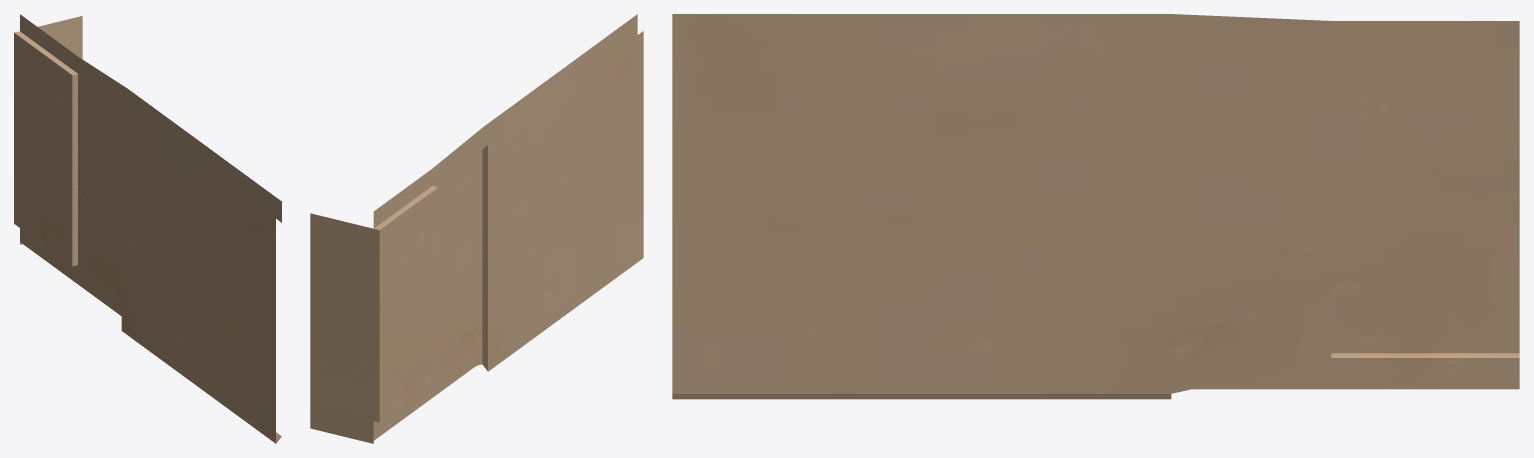
Rendered from wall-partition.glb.
3 renders of one model, left to right at view 1: azimuth 30°, elevation 25°; view 2: azimuth 150°, elevation 25°; view 3: azimuth 270°, elevation 25°, orthographic. The views are drawn at different scales.
Visible parts, largest first — view 1: Cube.005; view 2: Cube.005; view 3: Cube.005.
Boxes of the visible parts, x1,y1,x2,y2 form: Cube.005: [14, 14, 281, 443]; Cube.005: [310, 14, 643, 443]; Cube.005: [672, 14, 1519, 399].
Bounding box in the file's own units: 1.2 × 4.03 × 7.93.
Materials: 1 (1 with a texture image).
